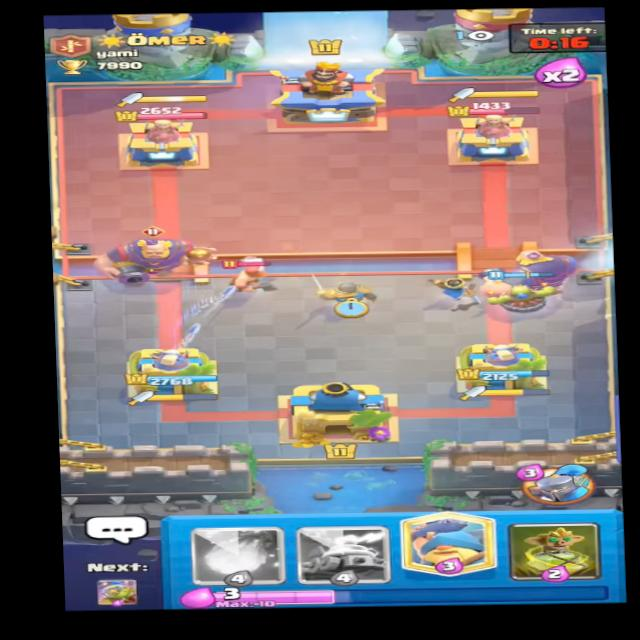Evoroyalgiant: (86, 223, 216, 285)
Lumberjack: (214, 255, 284, 291)
